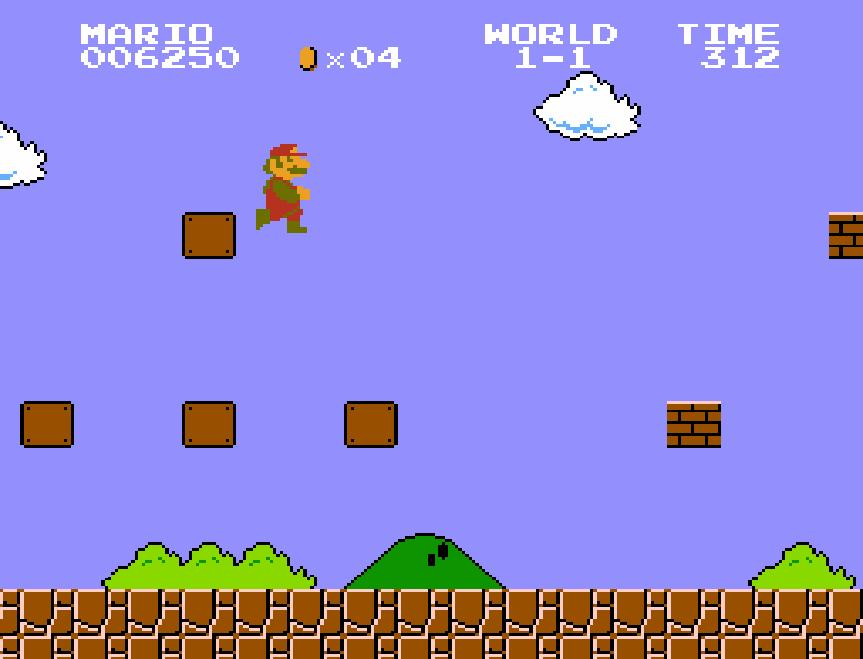big_mario: (254, 136, 312, 234)
